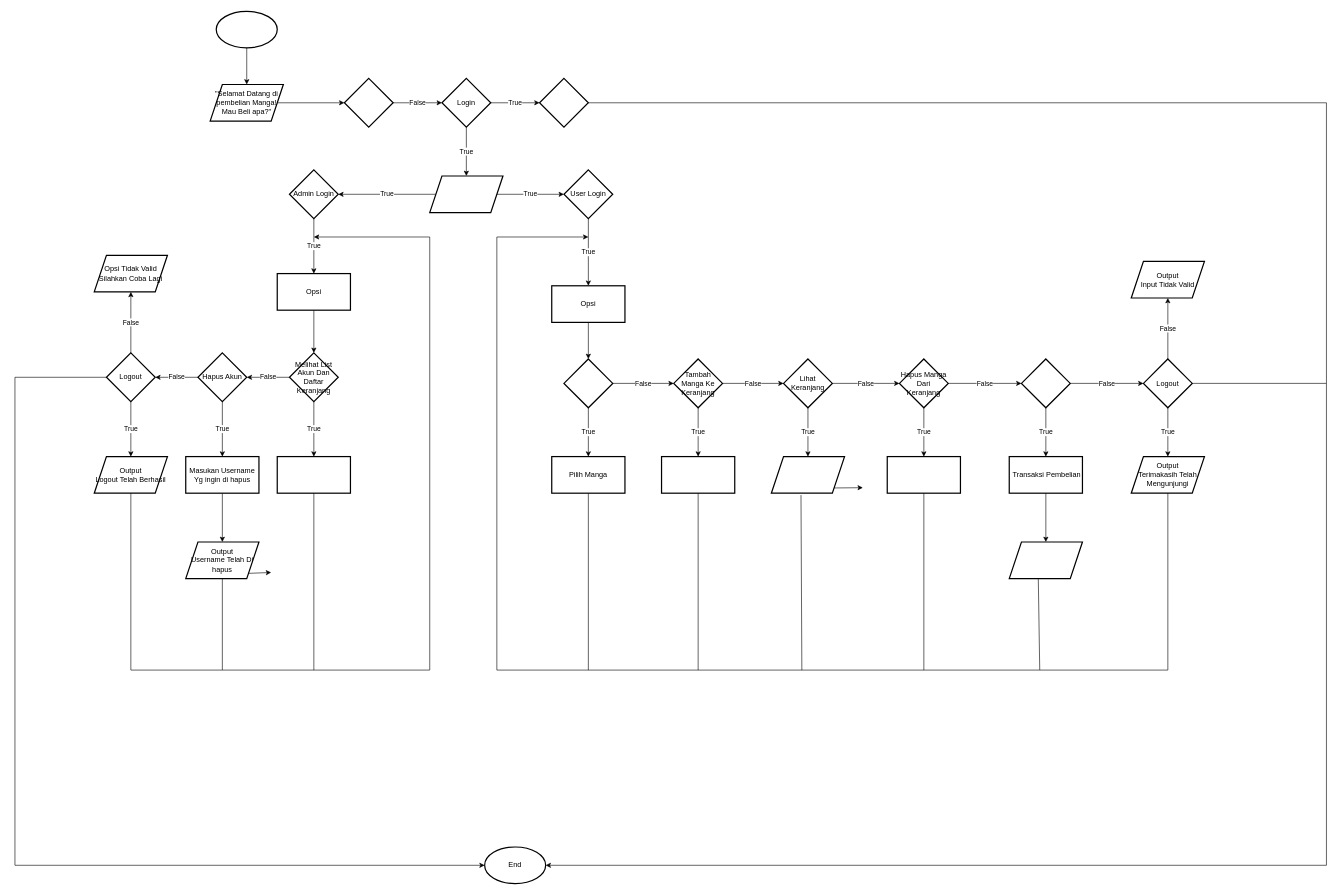
Some shapes in this 1342 by 894 pixel diagram are drawn without their labels. The centre of each missing label's shape, as x and y in pixels:
Daftar Akun: the point at 313,474
Exit: the point at 564,102
Input : Username Password: the point at 466,194
List Manga: the point at 588,383
Manga List: the point at 807,474
Menghapus Manga Dari Keranjang: the point at 923,474
Selesaikan Pembelian: the point at 1046,383
Sign Up: the point at 368,102
Start: the point at 246,29
Tambah Manga List: the point at 698,474
Terimakasih Telah Berbelanja: the point at 1045,560
